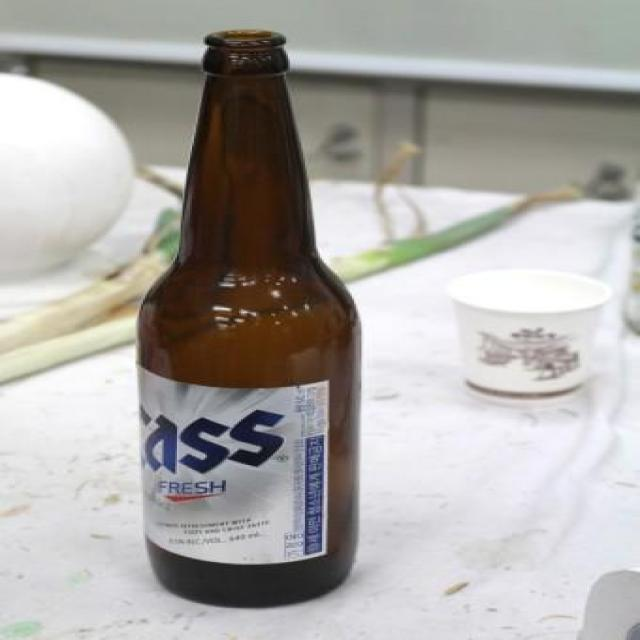beer-bottle: (128, 27, 367, 607)
